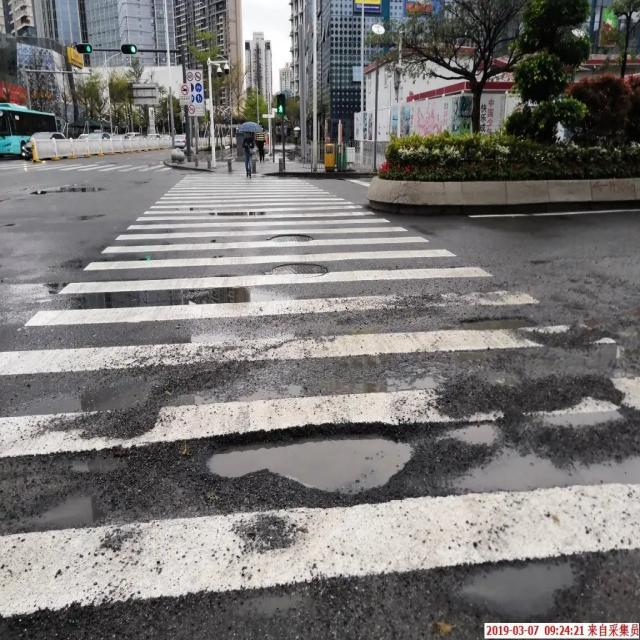Pothole: (202, 430, 416, 511)
